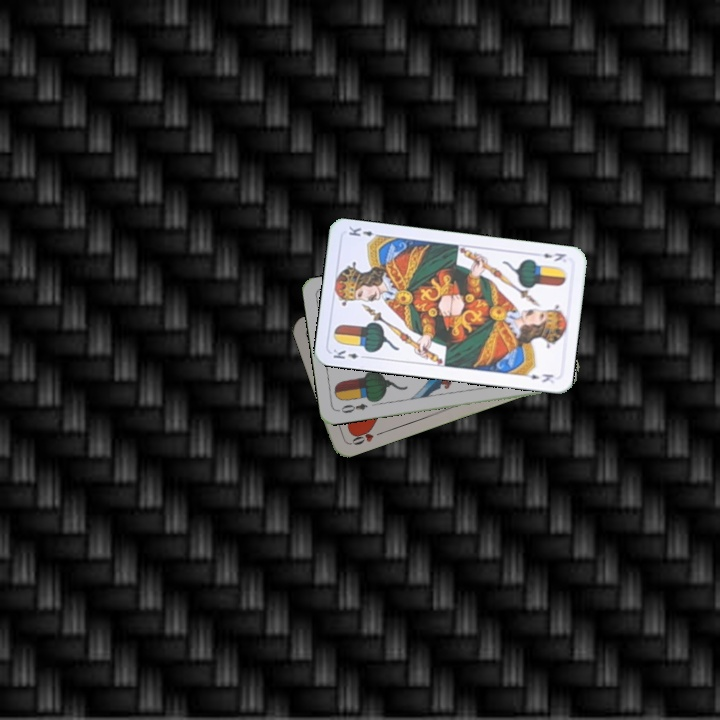EK: (329, 345, 369, 361), (539, 249, 568, 264)
EO: (337, 399, 370, 416)
HO: (347, 424, 386, 448)
